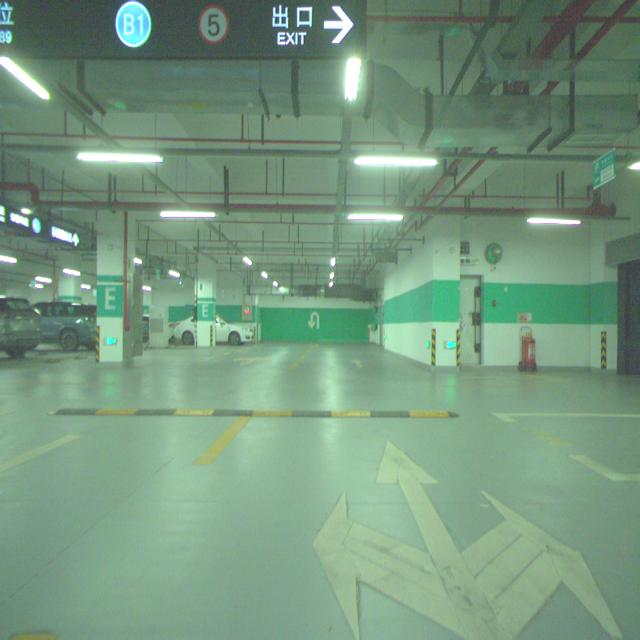pillar: (96, 211, 135, 363), (196, 255, 216, 347)
